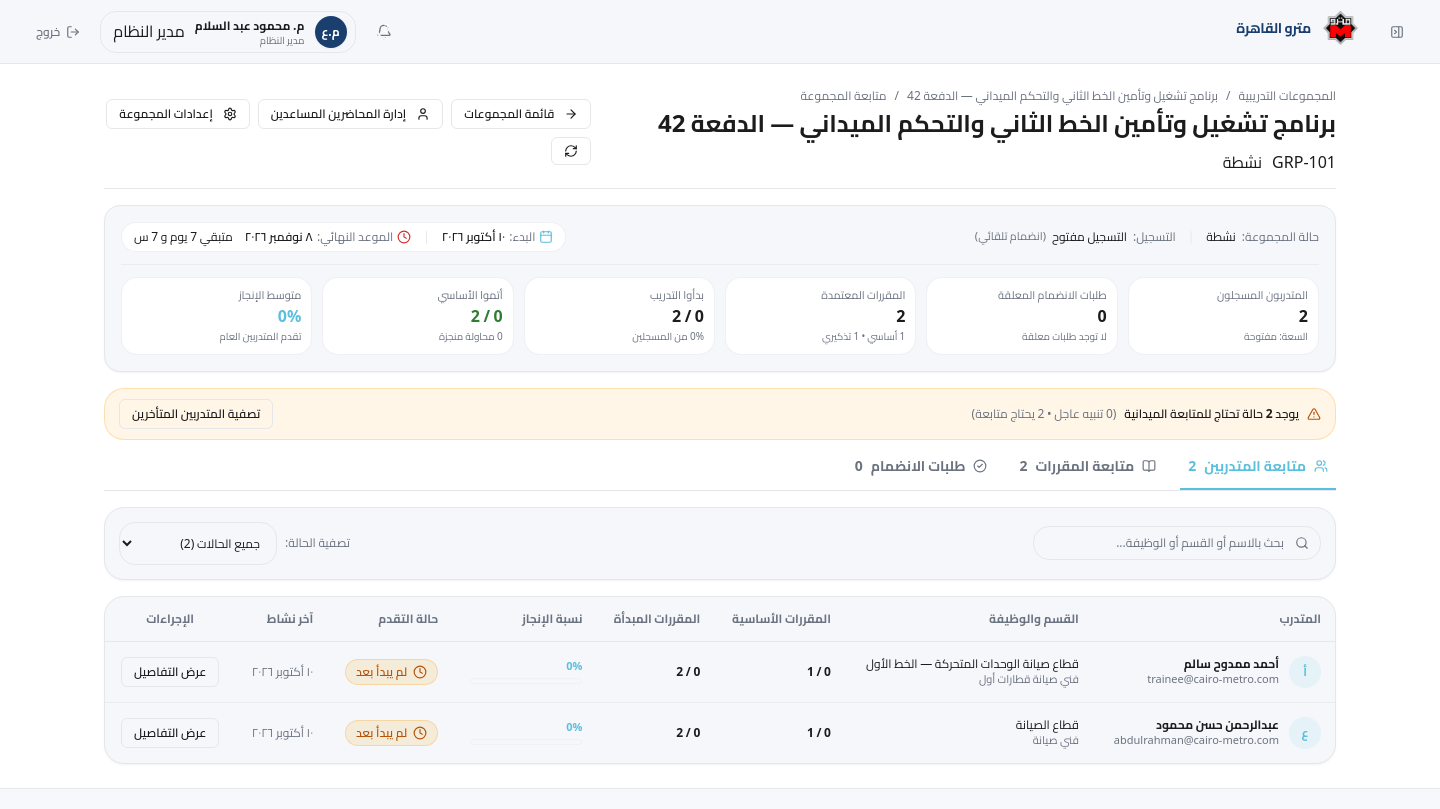
Increment 10 — Phase 8: Group Monitoring Dashboard & Historical Cycle Reporting › 3. Trainee Progress Table, Search and Status Filtering › renders trainee progress rows and filters by search query
This screenshot has width=1440, height=809.
Expected: the table with test id "trainees-table" is shown, [105, 597, 1335, 763]
# Search for specific trainee (أحمد)
In the field with test id "trainee-search-input": (1177, 543) [1033, 526, 1321, 560], type "أحمد"
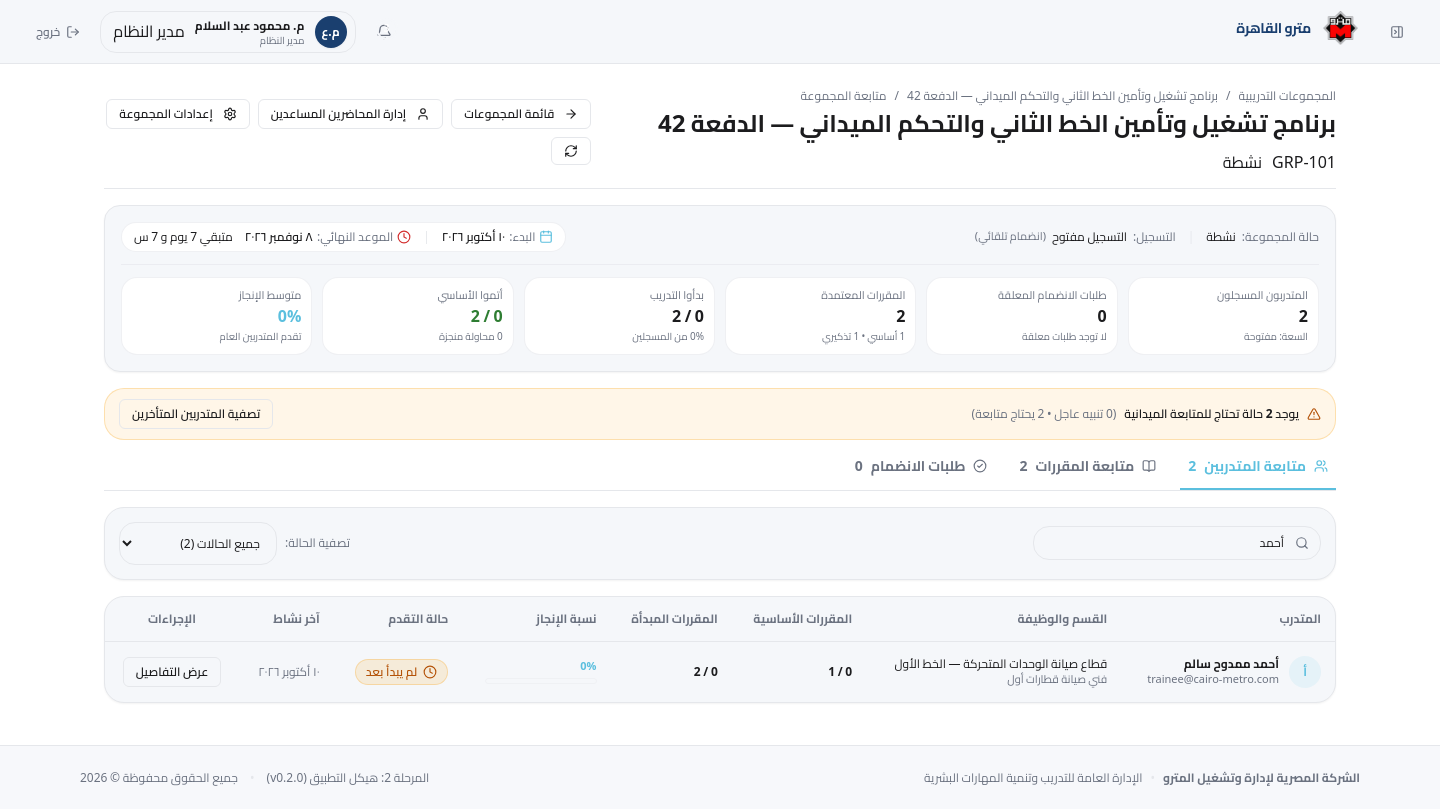
Expected: the row with test id "trainee-row-" is shown, [105, 641, 1335, 702]
# Search non-existent
Replace the text in the field with test id "trainee-search-input" with "اسم غير موجود إطلاقاً": (1177, 543) [1033, 526, 1321, 560]
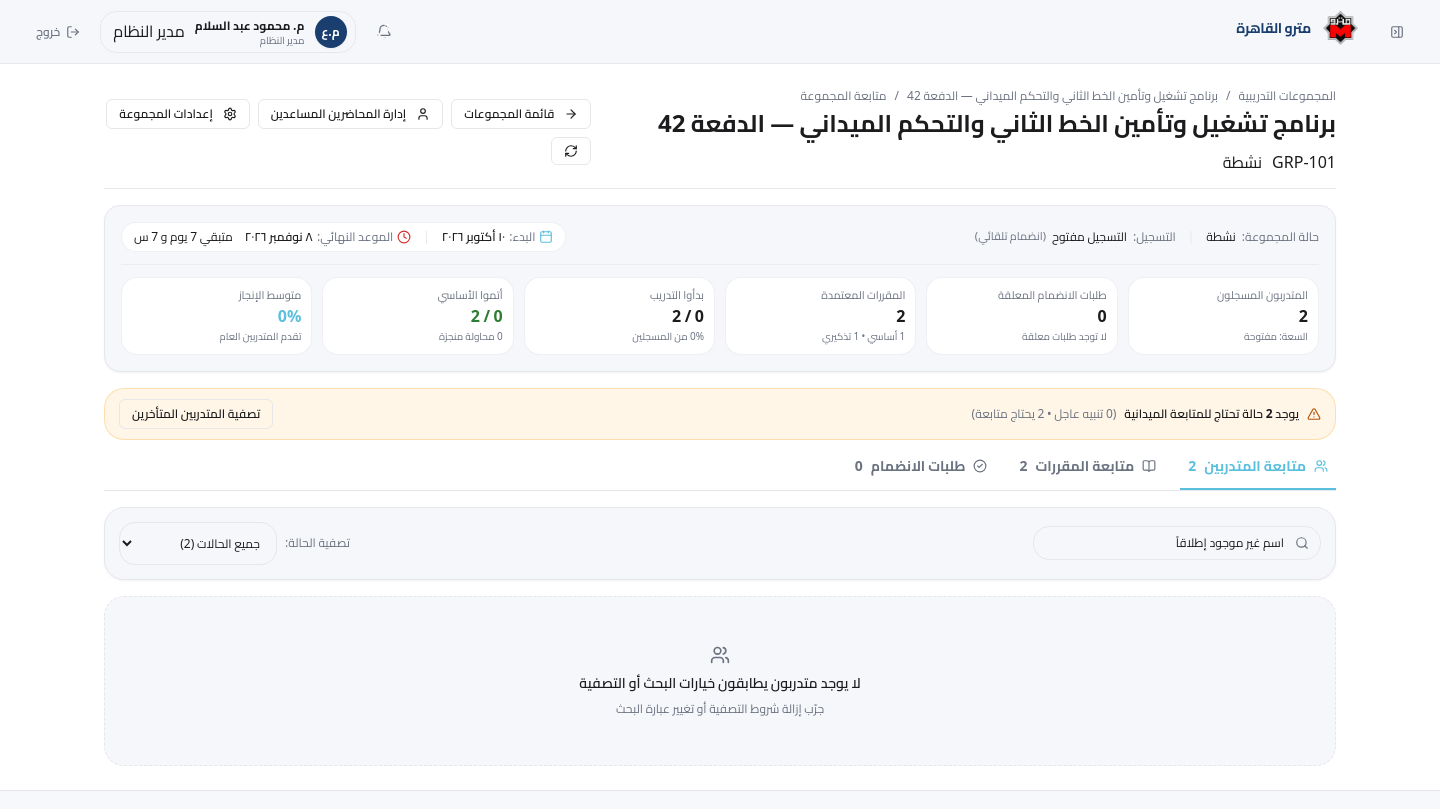
Now the element with test id "empty-trainees-state" is shown, box [104, 596, 1336, 766]
# Clear search
Clear the field with test id "trainee-search-input": (1177, 543) [1033, 526, 1321, 560]
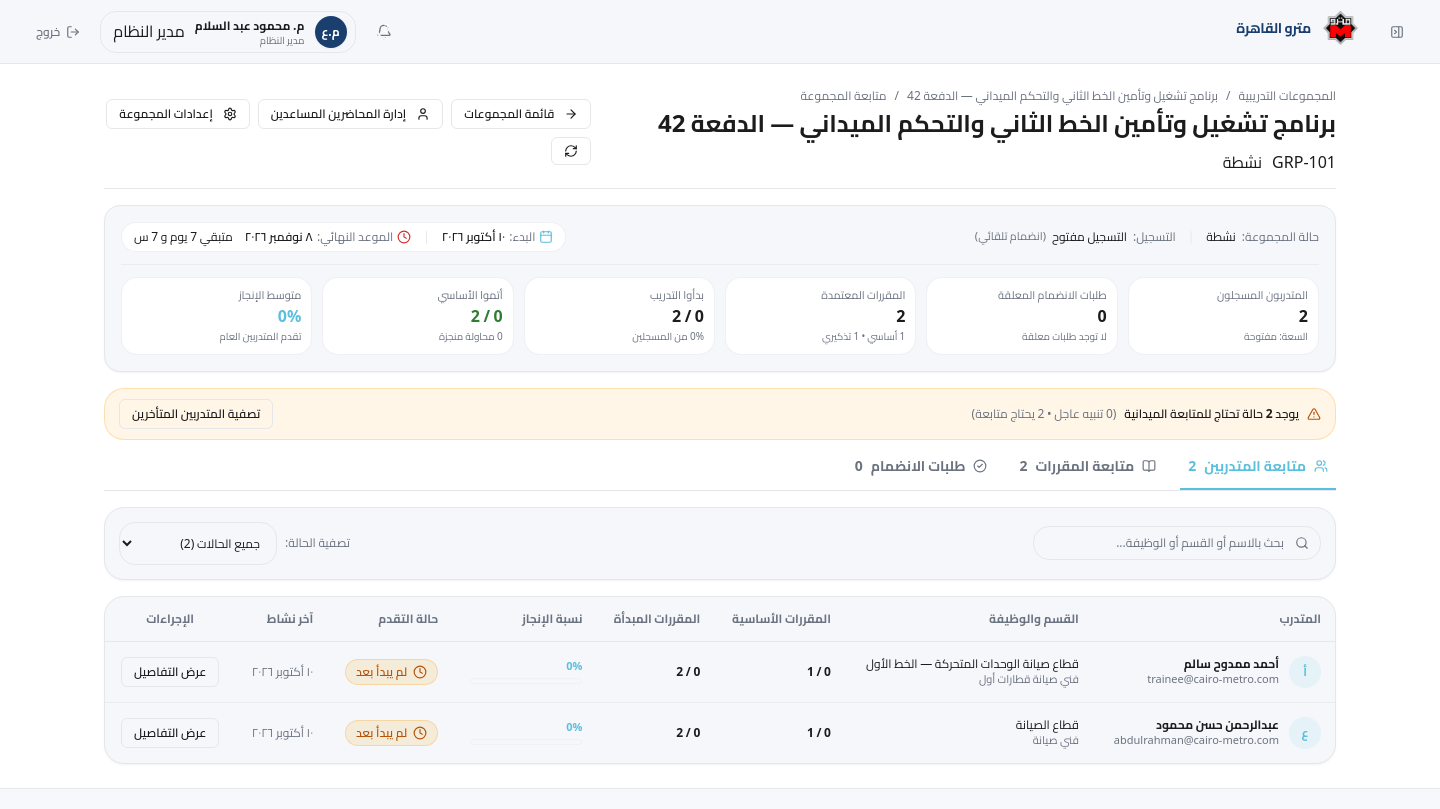
Now the table with test id "trainees-table" is shown, box [105, 597, 1335, 763]
